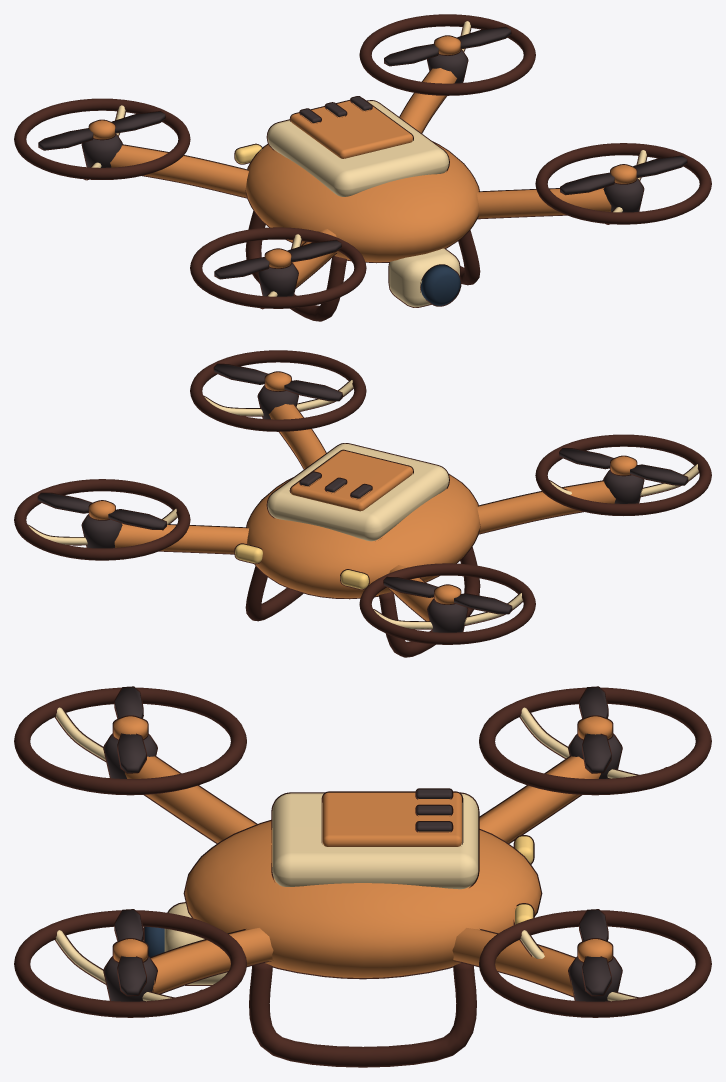
File: drohne.glb
The picture shows the model from 3 angles, top to bottom: view 1: azimuth 30°, elevation 25°; view 2: azimuth 150°, elevation 25°; view 3: azimuth 270°, elevation 25°; orthographic projection. The views are drawn at different scales.
Visible parts, largest first — view 1: Sphere, Outline_Fixed_Trim_Cream, Cube, Cube.002, Outline_Fixed_Rubber, Cube.007, Rotor_Hub_L_Rear_Mesh, Rotor_Hub_L_Front_Mesh, Rotor_Hub_R_Rear_Mesh, Rotor_Hub_R_Front_Mesh, Camera_Lens_Mesh, Outline_Fixed_Drone_Paint; view 2: Sphere, Outline_Fixed_Trim_Cream, Cube, Cube.002, Outline_Fixed_Rubber, Rotor_Hub_R_Rear_Mesh, Rotor_Hub_L_Front_Mesh, Rotor_Hub_L_Rear_Mesh, Rotor_Hub_R_Front_Mesh, Outline_Fixed_Drone_Paint, Cube.005; view 3: Sphere, Outline_Fixed_Trim_Cream, Cube, Outline_Fixed_Rubber, Cube.002, Outline_Fixed_Drone_Paint, Rotor_Hub_L_Front_Mesh, Rotor_Hub_L_Rear_Mesh, Rotor_Hub_R_Front_Mesh, Rotor_Hub_R_Rear_Mesh, Cube.007, Cube.005.
Boxes of the visible parts, x1,y1,x2,y2 form: Sphere: (110,68,611,287); Outline_Fixed_Trim_Cream: (14,14,711,309); Cube: (86,21,646,296); Cube.002: (82,50,643,296); Outline_Fixed_Rubber: (81,49,644,321); Cube.007: (389,248,459,307); Rotor_Hub_L_Rear_Mesh: (39,111,165,149); Rotor_Hub_L_Front_Mesh: (215,240,341,278); Rotor_Hub_R_Rear_Mesh: (384,27,510,65); Rotor_Hub_R_Front_Mesh: (560,156,686,194); Camera_Lens_Mesh: (421,265,460,305); Outline_Fixed_Drone_Paint: (123,68,567,288); Sphere: (114,404,615,621); Outline_Fixed_Trim_Cream: (14,350,711,644); Cube: (28,380,698,628); Cube.002: (82,386,643,632); Outline_Fixed_Rubber: (81,385,644,657); Rotor_Hub_R_Rear_Mesh: (38,493,166,529); Rotor_Hub_L_Front_Mesh: (559,448,687,484); Rotor_Hub_L_Rear_Mesh: (384,577,511,613); Rotor_Hub_R_Front_Mesh: (214,364,341,400); Outline_Fixed_Drone_Paint: (158,404,602,621); Cube.005: (235,544,368,589); Sphere: (125,756,600,995); Outline_Fixed_Trim_Cream: (14,687,711,1017); Cube: (55,707,636,1001); Outline_Fixed_Rubber: (103,733,622,1067); Cube.002: (104,735,621,1001); Outline_Fixed_Drone_Paint: (144,755,581,997); Rotor_Hub_L_Front_Mesh: (113,687,147,772); Rotor_Hub_L_Rear_Mesh: (578,687,612,772); Rotor_Hub_R_Front_Mesh: (113,910,147,995); Rotor_Hub_R_Rear_Mesh: (578,910,612,995); Cube.007: (164,903,227,984); Cube.005: (515,836,533,924).
Size of the model in its own units: 0.3532 by 0.1081 by 0.3244.
